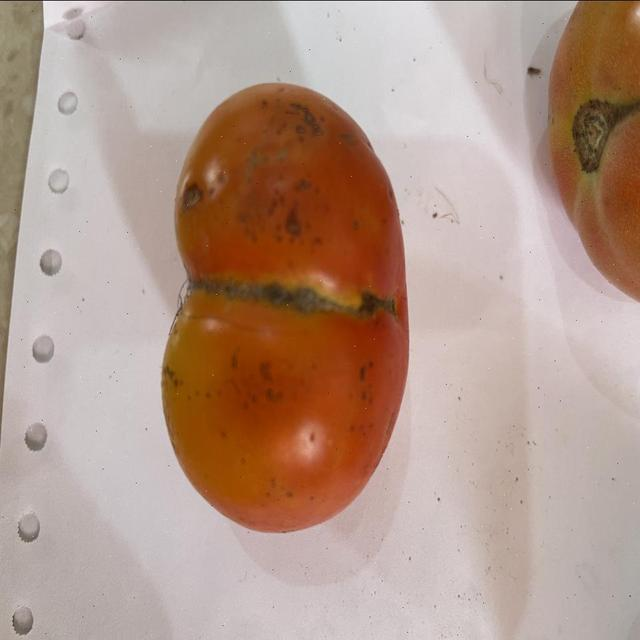Cracking Fruit: (120, 176, 269, 221)
